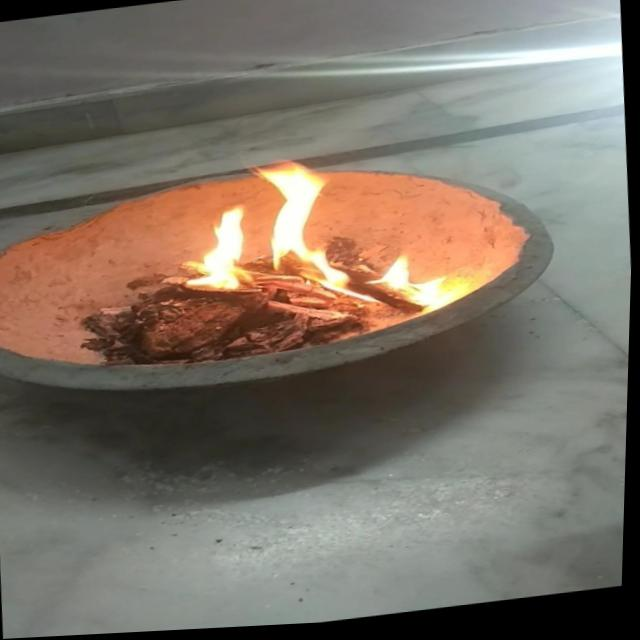fire: (245, 155, 362, 315), (181, 195, 257, 303), (367, 245, 462, 324)
